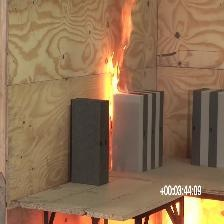fire: (96, 0, 139, 110)
